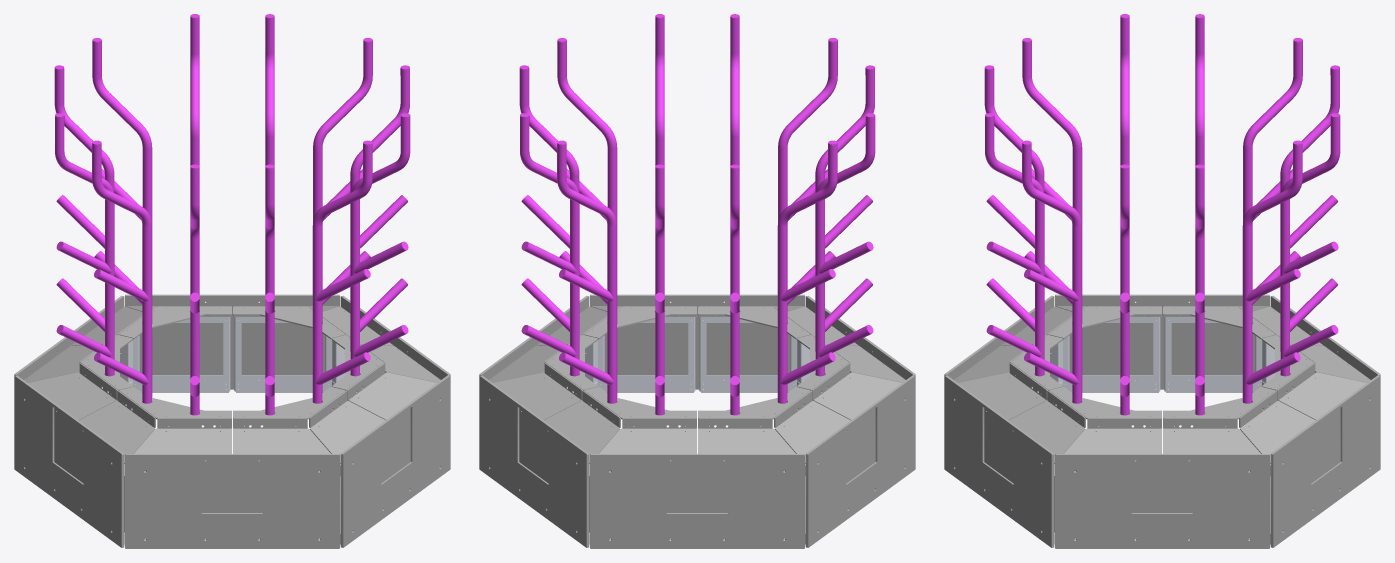
File: reef.glb
The picture shows the model from 3 angles, left to right: view 1: azimuth 30°, elevation 25°; view 2: azimuth 150°, elevation 25°; view 3: azimuth 270°, elevation 25°; orthographic projection.
Size of the model in its own units: 1.66 by 1.83 by 1.91.
